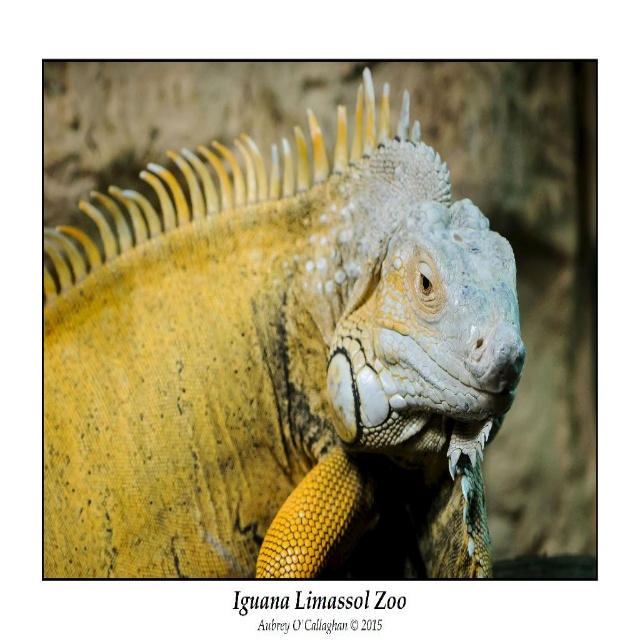Lizard: (32, 68, 534, 606)
